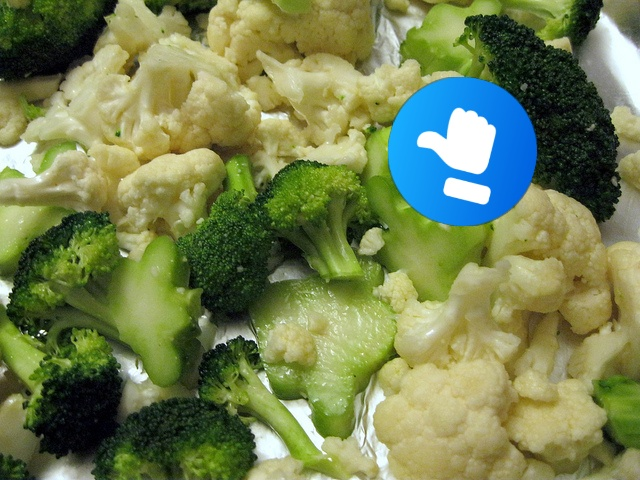like: (388, 77, 537, 226)
